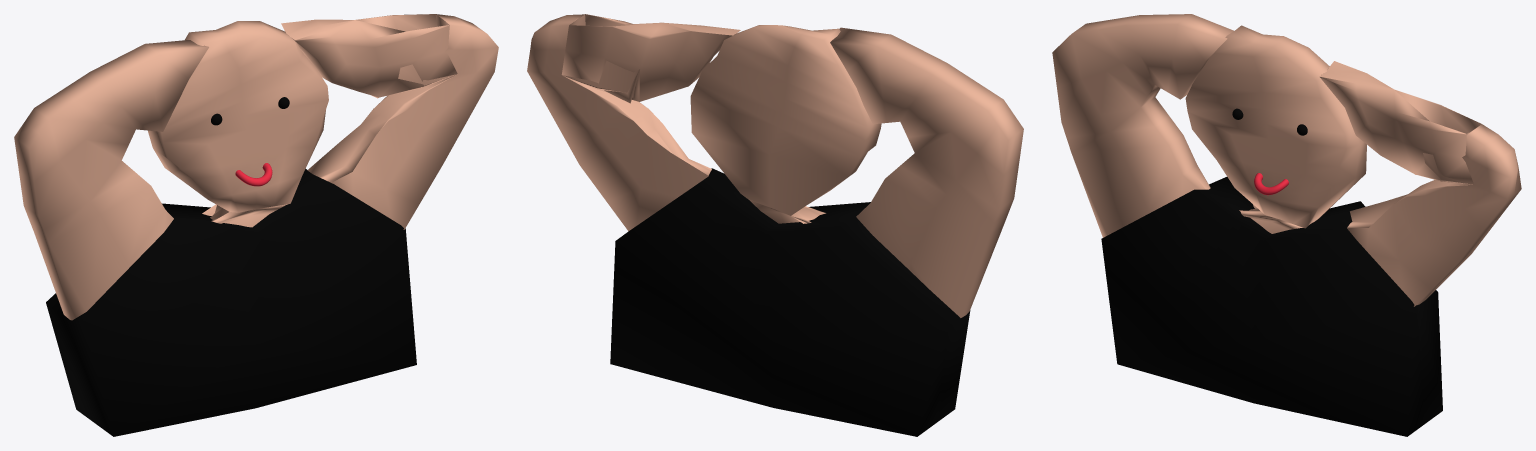
File: elon.glb
3 renders of one model, left to right at view 1: azimuth 30°, elevation 25°; view 2: azimuth 150°, elevation 25°; view 3: azimuth 330°, elevation 25°, orthographic. The views are drawn at different scales.
Visible parts, largest first — view 1: elon, shirt; view 2: elon, shirt; view 3: elon, shirt.
Boxes of the visible parts, x1,y1,x2,y2 form: elon: [14, 14, 498, 320]; shirt: [46, 169, 416, 436]; elon: [527, 14, 1023, 317]; shirt: [610, 168, 970, 436]; elon: [1052, 14, 1521, 306]; shirt: [1101, 177, 1442, 436].
Size of the model in its own units: 4.07 by 3.02 by 0.5554.
